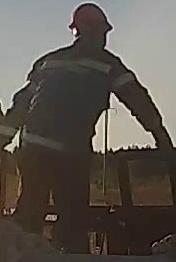helmet: (67, 2, 114, 33)
vest: (16, 46, 131, 166)
